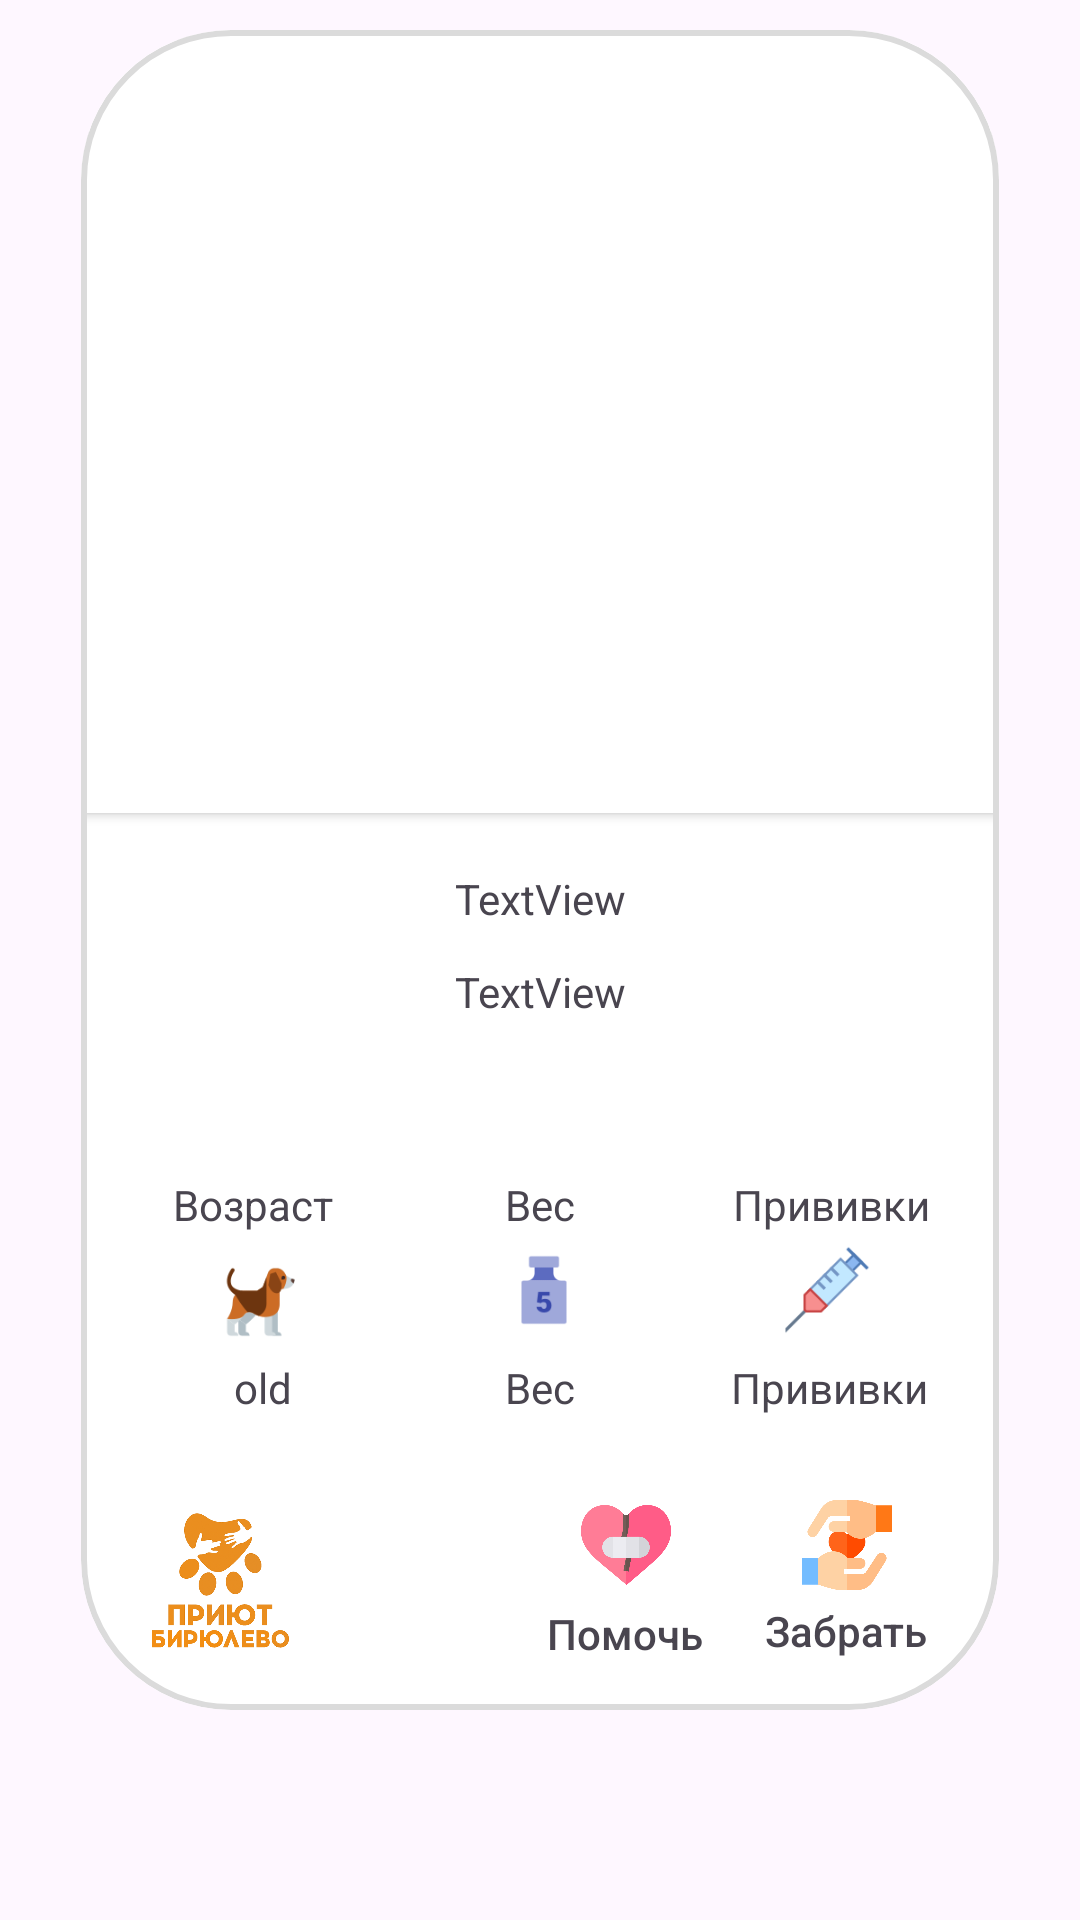

Screen size 1080px×1920px. Icon name, then its box in pixels as (x1, y1, x2, y2):
dog for: (226, 1268, 295, 1336)
